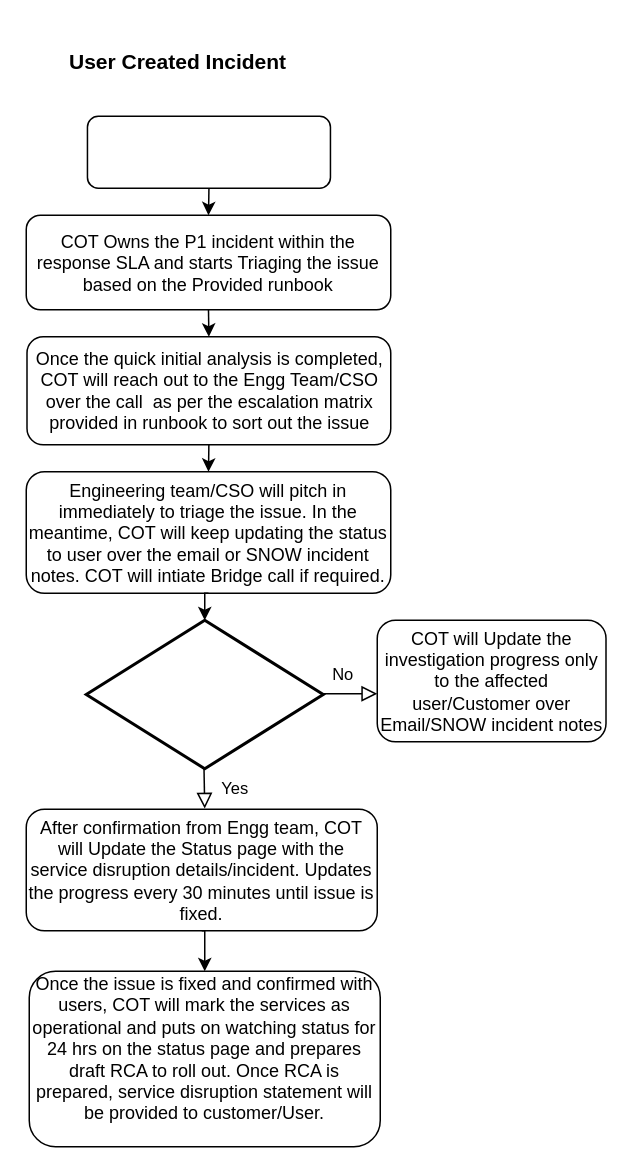
Image size: 633x1173. Some labels were removed from this diagram. Here are the shapes that lost their labels. From the top down, the box of each, then its label:
(86, 115, 330, 188): User creates P1 Incident with the help of SNOW
(84, 618, 324, 770): We Ensure is it global outage
